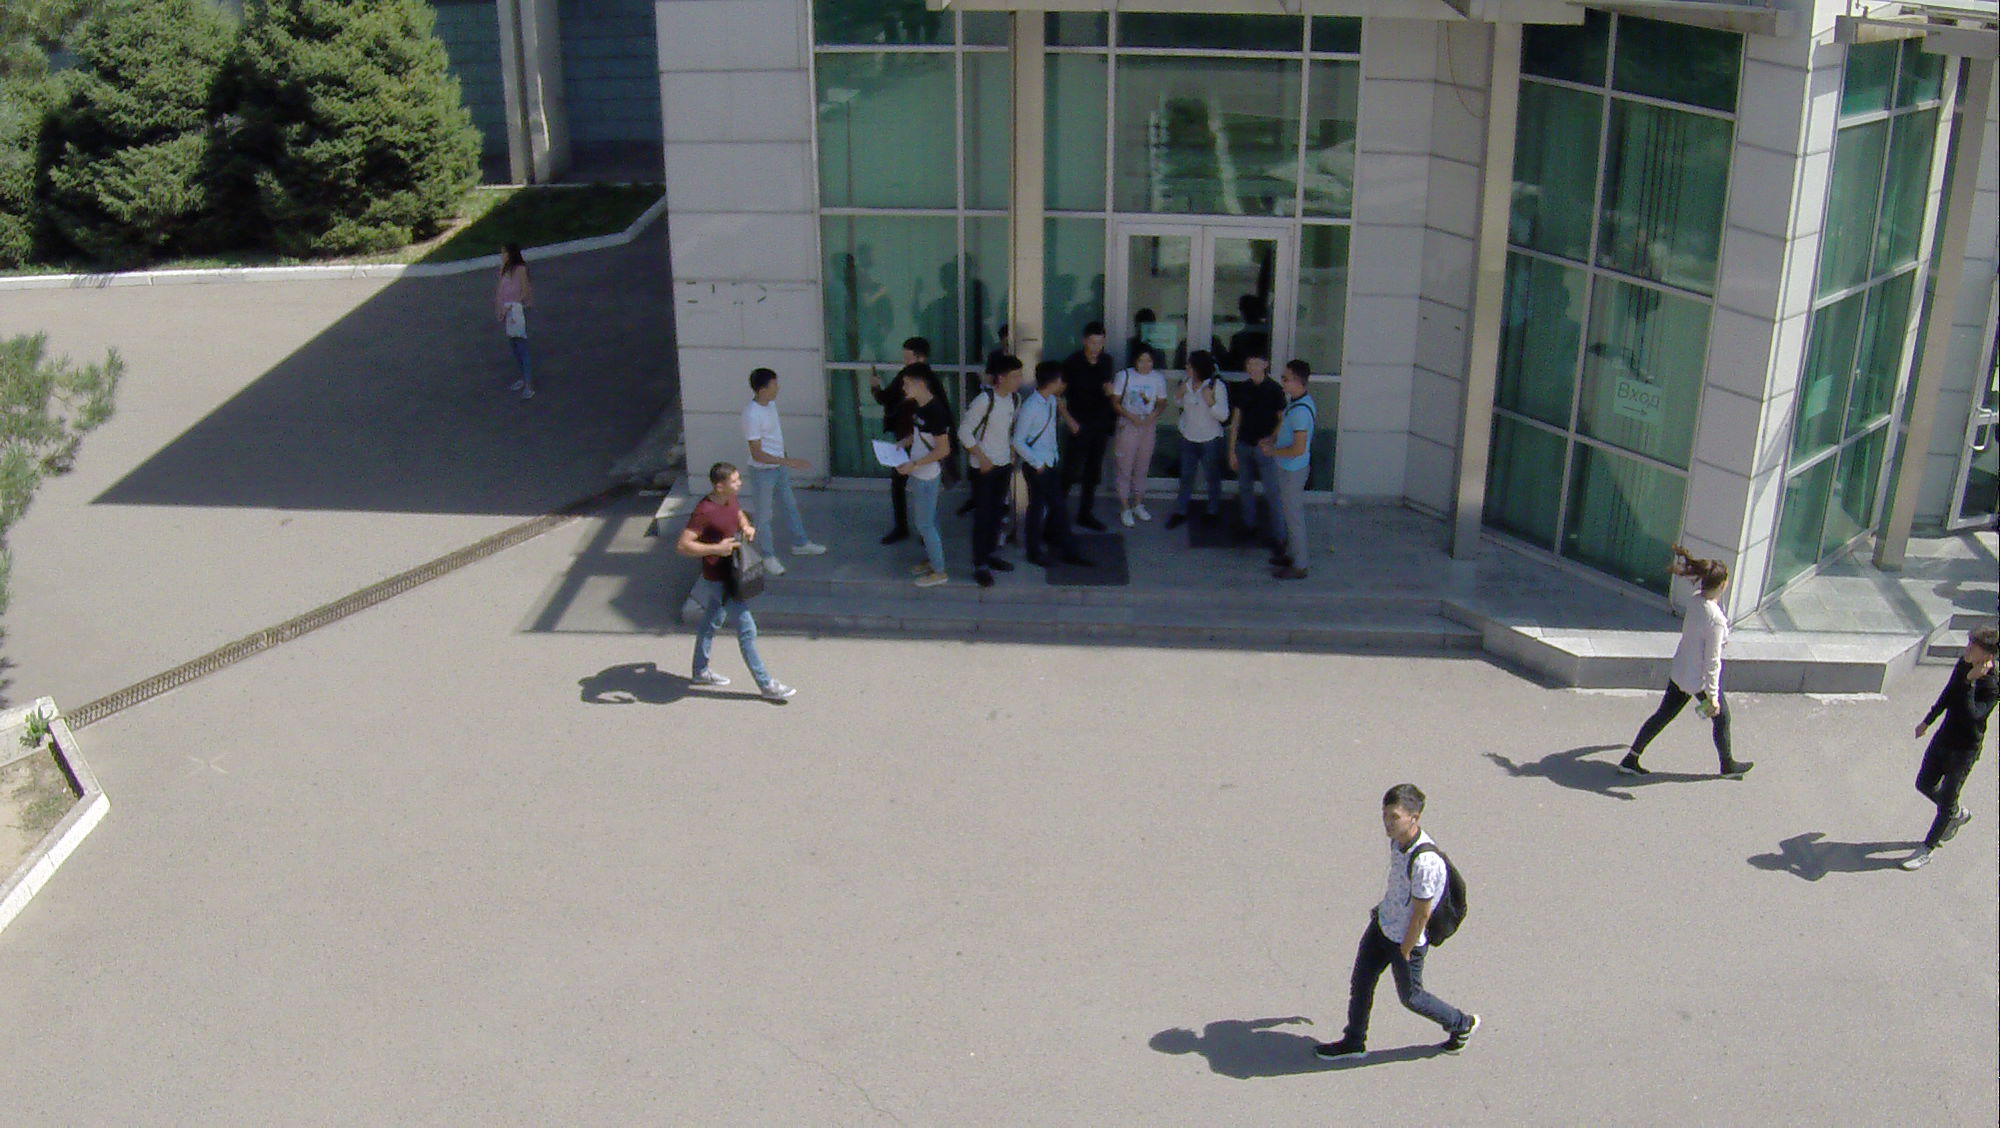person: (1632, 547, 1757, 788), (682, 457, 800, 709), (1889, 620, 2000, 877), (740, 357, 830, 586), (881, 364, 963, 595), (1018, 356, 1082, 575), (1161, 328, 1223, 535), (965, 344, 1014, 596), (1227, 346, 1285, 557), (1276, 351, 1322, 593), (1109, 339, 1162, 544), (488, 237, 546, 408), (1062, 312, 1105, 531)
